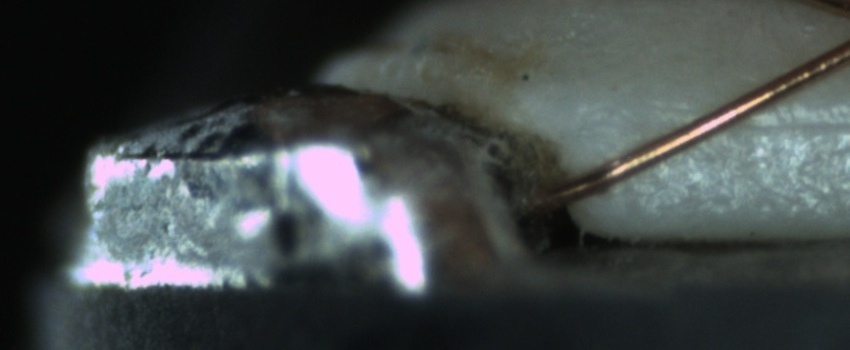DL: (694, 93, 846, 156)
